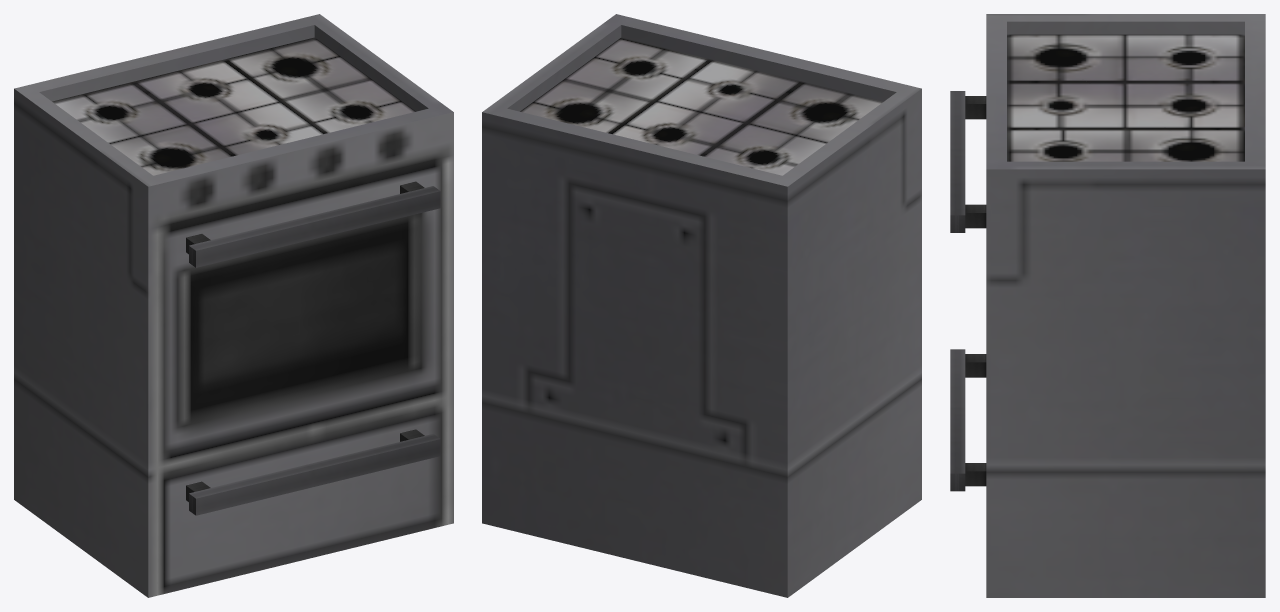
File: Kitchen_Cooking.fbx
The picture shows the model from 3 angles, left to right: view 1: azimuth 30°, elevation 25°; view 2: azimuth 150°, elevation 25°; view 3: azimuth 270°, elevation 25°; orthographic projection. The views are drawn at different scales.
Visible parts, largest first — view 1: polySurface1535; view 2: polySurface1535; view 3: polySurface1535.
Part boxes in pixels (x1,y1,x2,y2): polySurface1535: (14,14,453,597); polySurface1535: (482,14,921,597); polySurface1535: (950,14,1265,597).
Bounding box in the file's own units: 1 × 1.29 × 0.8578.
